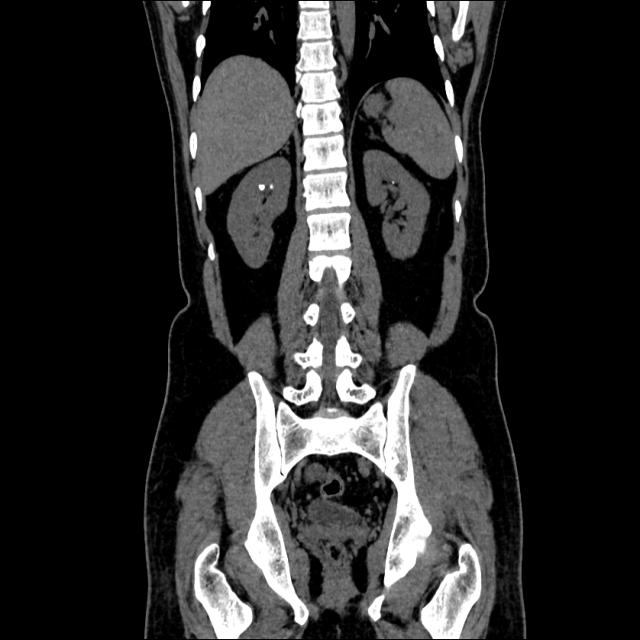kidneystone: (259, 184, 265, 191), (270, 184, 274, 188)
